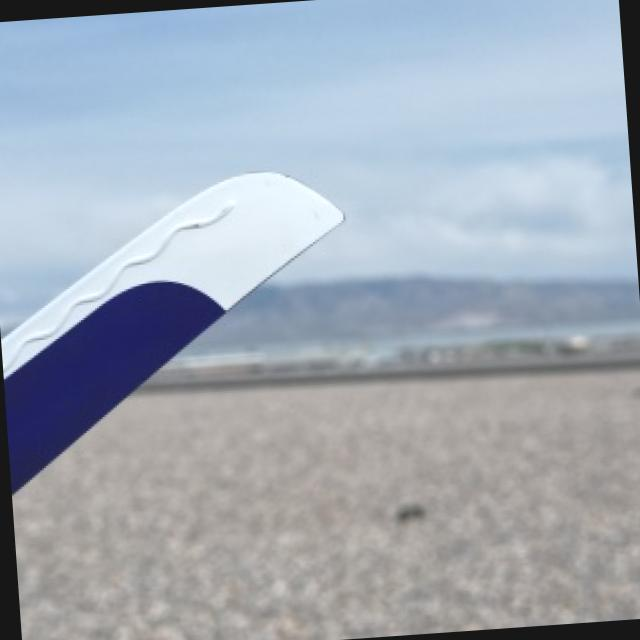healthy: (2, 169, 344, 489)
